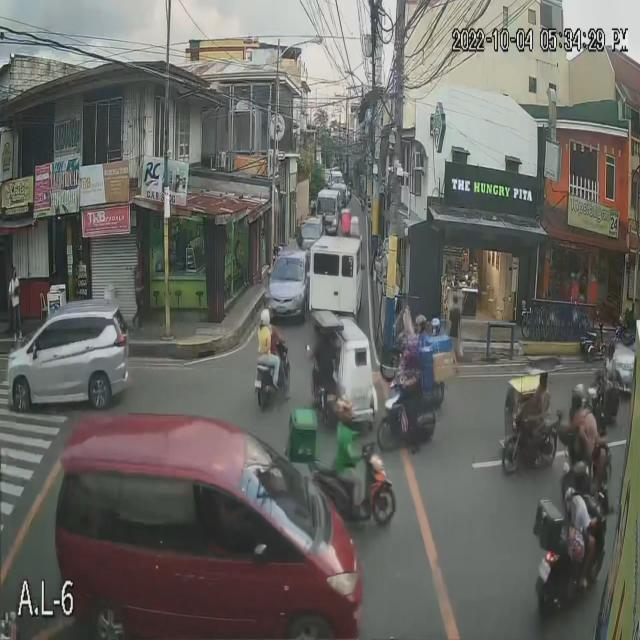full: (335, 397, 354, 428)
half: (416, 315, 426, 334), (431, 316, 441, 335)
